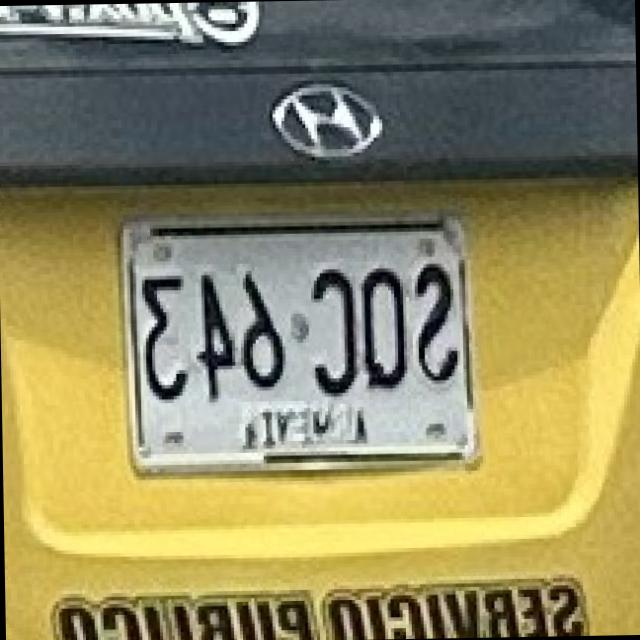number plate: (117, 211, 481, 478)
